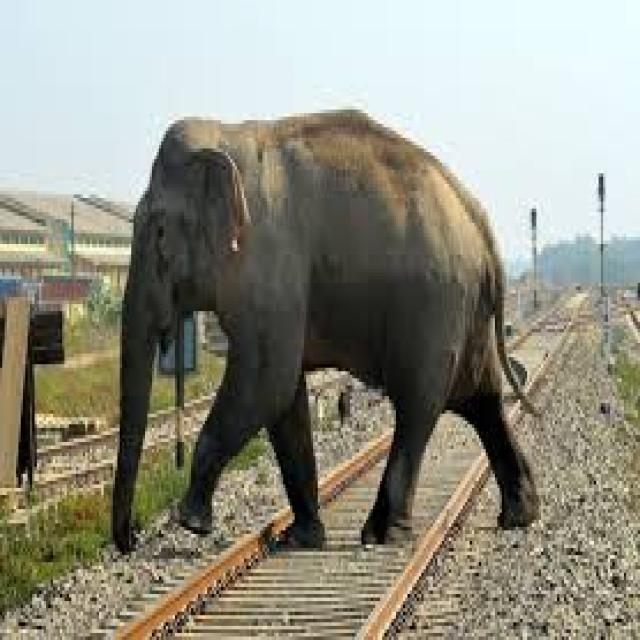Elephant: (103, 99, 540, 563)
